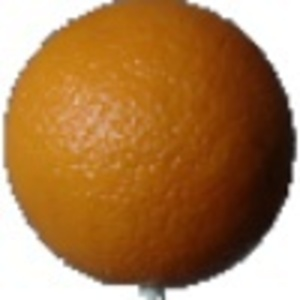laranja: (3, 1, 293, 290)
